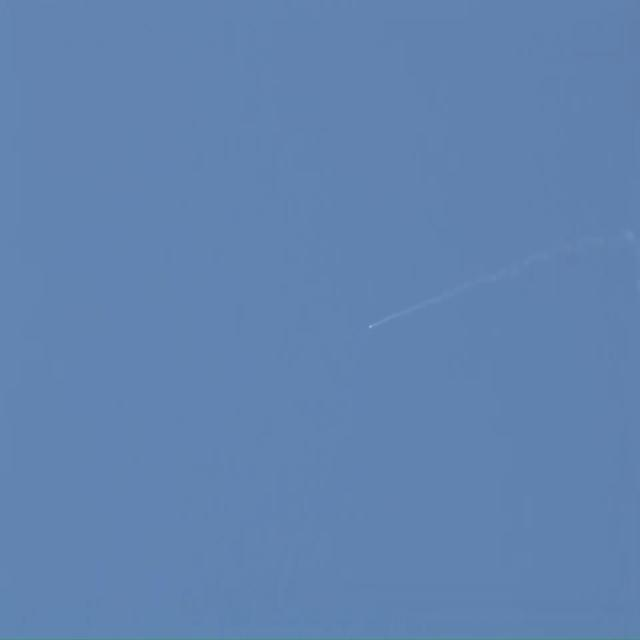Rocket: (369, 326, 371, 328)
